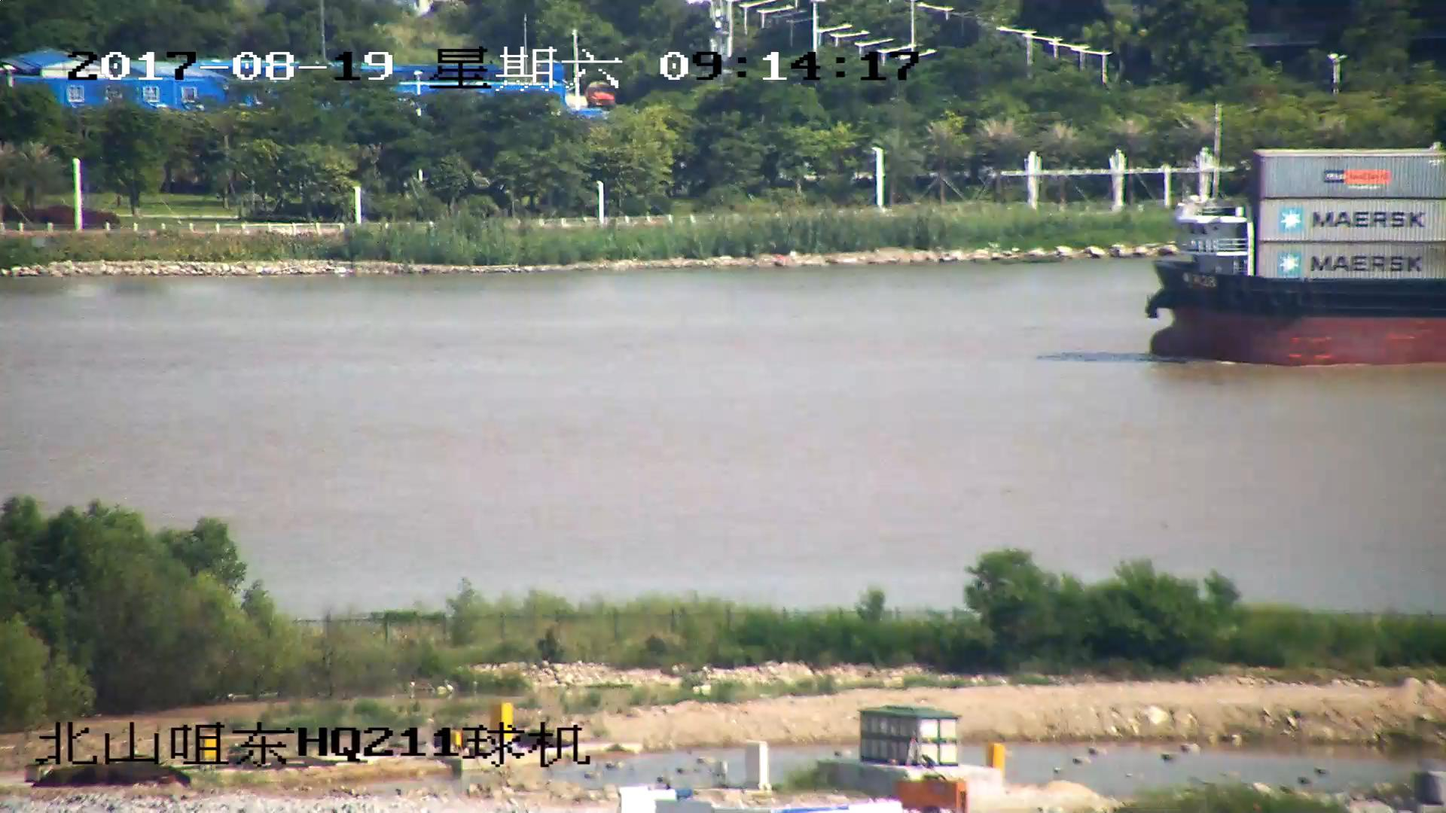container ship: (1141, 144, 1445, 367)
